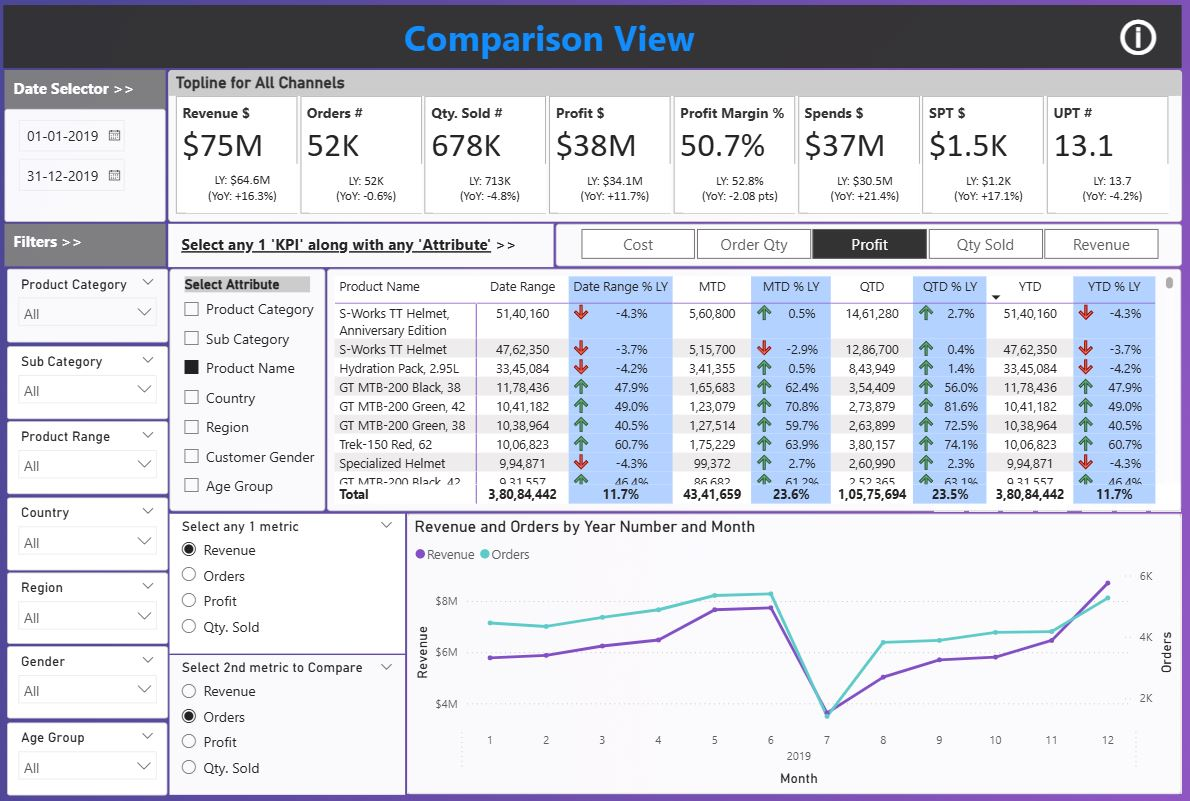

The dashboard page shown, as its layout file describes it:
{"tool":"powerbi","page":{"name":"Comparison View","canvas":[1280,880],"ordinal":1},"visuals":[{"type":"slicer","fields":{"Values":["Parameter_1.Parameter_1"]},"box":[196.1,568.6,248,148.6],"z":0},{"type":"slicer","fields":{"Values":["Metric 2.Metric 2"]},"box":[196.1,717.2,248,147.3],"z":1000},{"type":"lineChart","fields":{"Y":["My Measures.Total Revenue"],"Y2":["My Measures.Total Orders"],"Category":["Hero Cycles Calendar.Year","Hero Cycles Calendar.Month Number"]},"box":[444.2,568.6,815.2,295.8],"z":2000},{"type":"slicer","fields":{"Values":["Hero Cycles Product Categories.Product Category"]},"box":[17.2,290.6,170.5,70],"z":3000},{"type":"textbox","box":[17.2,241.5,170.5,40],"z":4000},{"type":"slicer","fields":{"Values":["Hero Cycles Product Subcategories.Sub Category"]},"box":[17.2,368.1,170.5,69.8],"z":5000},{"type":"slicer","fields":{"Values":["Hero Cycles Products.Product New"]},"box":[17.2,446.9,170.5,69.8],"z":6000},{"type":"slicer","fields":{"Values":["Hero Cycles Regions.Country"]},"box":[17.2,525.7,170.5,69.8],"z":7000},{"type":"slicer","fields":{"Values":["Hero Cycles Regions.Region"]},"box":[17.2,605.8,170.5,69.8],"z":8000},{"type":"slicer","fields":{"Values":["Hero Cycles Gender.Customer Gender"]},"box":[17.2,685.9,170.5,69.8],"z":9000},{"type":"pivotTable","fields":{"Rows":["Hero Cycles Products.Product New"],"Values":["V2 Selector.V2 Selector CY","V2 Selector.V2 Selector % LY","V2 Selector.V2 Selector MTD CY","V2 Selector.V2 Selector MTD % LY","V2 Selector.V2 Selector QTD CY","V2 Selector.V2 Selector QTD % LY","V2 Selector.V2 Selector YTD CY","V2 Selector.V2 Selector YTD % LY"]},"box":[365.7,307.2,892.8,253.4],"z":10000},{"type":"textbox","box":[17.2,87.5,169.2,40],"z":11000},{"type":"slicer","fields":{"Values":["Hero Cycles Calendar.Date"]},"box":[17.2,132.7,170.5,99.5],"z":12000},{"type":"slicer","fields":{"Values":["Hero Cycles Age Group.Age Group"]},"box":[16.5,767.8,170.2,69.7],"z":13000},{"type":"slicer","fields":{"Values":["V2 Selector.Selector"]},"box":[606,256.6,653.2,45.7],"z":14000},{"type":"slicer","fields":{"Values":["Parameter_1.Parameter_1"]},"box":[195.4,304.5,164.9,256],"z":15000},{"type":"cardVisual","title":"Topline for All Channels","fields":{"Data":["My Measures.Total Revenue","My Measures.Total Orders","My Measures.Quantity Sold","My Measures.Total Profit","My Measures.Profit Margin","My Measures.Total Cost","My Measures.SPT","My Measures.UPT"]},"box":[196.1,86.8,1063,160],"z":16000},{"type":"card","fields":{"Values":["My Measures.Total Revenue Card LY"]},"box":[208.2,184.7,119.3,52],"z":17000},{"type":"card","fields":{"Values":["My Measures.Total Cost Card LY"]},"box":[863.7,184.7,119.3,52.3],"z":18000},{"type":"card","fields":{"Values":["My Measures.Total Profit Card LY"]},"box":[600.9,184.7,119.3,52.3],"z":19000},{"type":"card","fields":{"Values":["My Measures.Total Orders Card LY"]},"box":[339.5,184.7,119.3,52.3],"z":20000},{"type":"card","fields":{"Values":["My Measures.Quantity Sold Card LY"]},"box":[469.6,184.7,119.3,52.3],"z":21000},{"type":"card","fields":{"Values":["My Measures.SPT Card LY"]},"box":[993.7,184.7,119.3,52.3],"z":22000},{"type":"card","fields":{"Values":["My Measures.UPT Card LY"]},"box":[1125.1,184.7,119.3,52.3],"z":23000},{"type":"card","fields":{"Values":["My Measures.Profit Margin Card LY"]},"box":[732.3,184.7,119.3,52.3],"z":24000},{"type":"image","box":[19.2,5.9,166.6,76.7],"z":25000},{"type":"textbox","box":[196.1,13.3,971.7,66.4],"z":26000},{"type":"textbox","box":[196.1,256.6,405.5,42.8],"z":28000},{"type":"card","fields":{"Values":["My Measures.Info_Icon"]},"box":[1167.8,13.3,89.9,65],"z":28001}]}

Visuals, with their boxes in screenshot pixels (x1, y1, x2, y2), scaled from the page's 1280x880 canvas onto the 1190x801 screenshot:
slicer - Parameter_1.Parameter_1: (182, 518, 413, 653)
slicer - Metric 2.Metric 2: (182, 653, 413, 787)
lineChart - My Measures.Total Revenue x My Measures.Total Orders: (413, 518, 1171, 787)
slicer - Hero Cycles Product Categories.Product Category: (16, 265, 175, 328)
textbox: (16, 220, 175, 256)
slicer - Hero Cycles Product Subcategories.Sub Category: (16, 335, 175, 399)
slicer - Hero Cycles Products.Product New: (16, 407, 175, 470)
slicer - Hero Cycles Regions.Country: (16, 479, 175, 542)
slicer - Hero Cycles Regions.Region: (16, 551, 175, 615)
slicer - Hero Cycles Gender.Customer Gender: (16, 624, 175, 688)
pivotTable - Hero Cycles Products.Product New x V2 Selector.V2 Selector CY: (340, 280, 1170, 510)
textbox: (16, 80, 173, 116)
slicer - Hero Cycles Calendar.Date: (16, 121, 175, 211)
slicer - Hero Cycles Age Group.Age Group: (15, 699, 174, 762)
slicer - V2 Selector.Selector: (563, 234, 1171, 275)
slicer - Parameter_1.Parameter_1: (182, 277, 335, 510)
"Topline for All Channels" cardVisual: (182, 79, 1171, 225)
card - My Measures.Total Revenue Card LY: (194, 168, 304, 215)
card - My Measures.Total Cost Card LY: (803, 168, 914, 216)
card - My Measures.Total Profit Card LY: (559, 168, 670, 216)
card - My Measures.Total Orders Card LY: (316, 168, 427, 216)
card - My Measures.Quantity Sold Card LY: (437, 168, 547, 216)
card - My Measures.SPT Card LY: (924, 168, 1035, 216)
card - My Measures.UPT Card LY: (1046, 168, 1157, 216)
card - My Measures.Profit Margin Card LY: (681, 168, 792, 216)
image: (18, 5, 173, 75)
textbox: (182, 12, 1086, 73)
textbox: (182, 234, 559, 273)
card - My Measures.Info_Icon: (1086, 12, 1169, 71)
